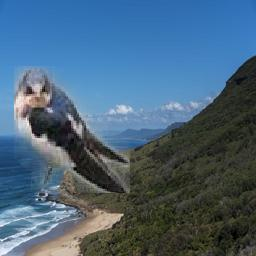Swallow: (14, 67, 130, 194)
